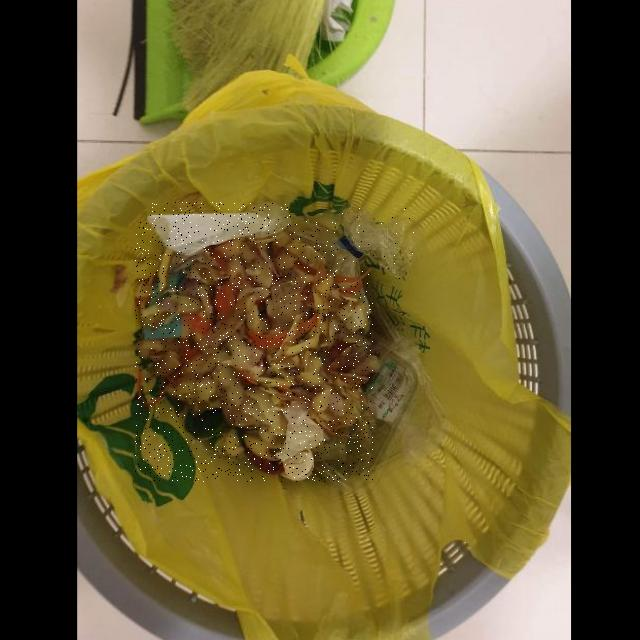biowaste: (136, 222, 373, 482)
paper: (147, 202, 292, 257)
plastic: (339, 209, 414, 279)
